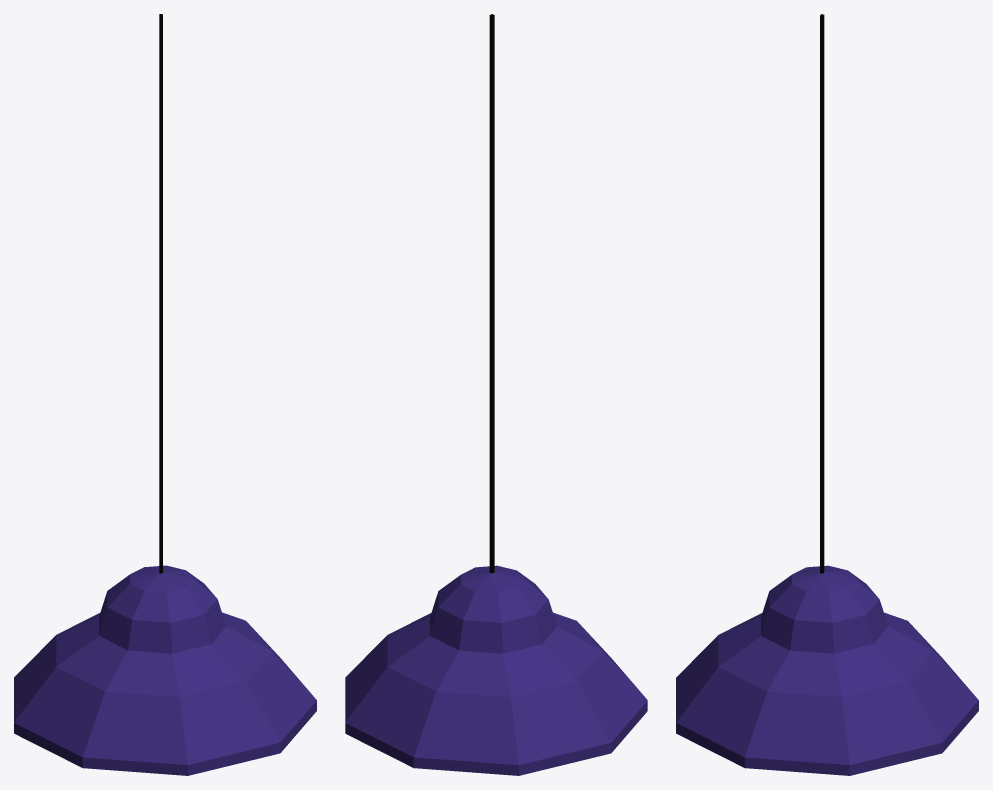
File: ceiling lamp.glb
The picture shows the model from 3 angles, left to right: view 1: azimuth 30°, elevation 25°; view 2: azimuth 150°, elevation 25°; view 3: azimuth 270°, elevation 25°; orthographic projection.
Visible parts, largest first — view 1: Ceiling Lamp; view 2: Ceiling Lamp; view 3: Ceiling Lamp.
Boxes of the visible parts, x1=… form: Ceiling Lamp: x1=14, y1=14, x2=316, y2=775; Ceiling Lamp: x1=345, y1=14, x2=647, y2=775; Ceiling Lamp: x1=676, y1=14, x2=978, y2=775.
Size of the model in its own units: 4.68 by 11.7 by 4.61.
